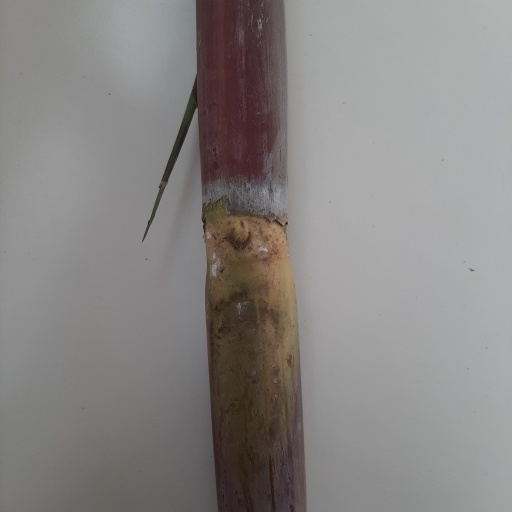Bud: (225, 219, 253, 254)
